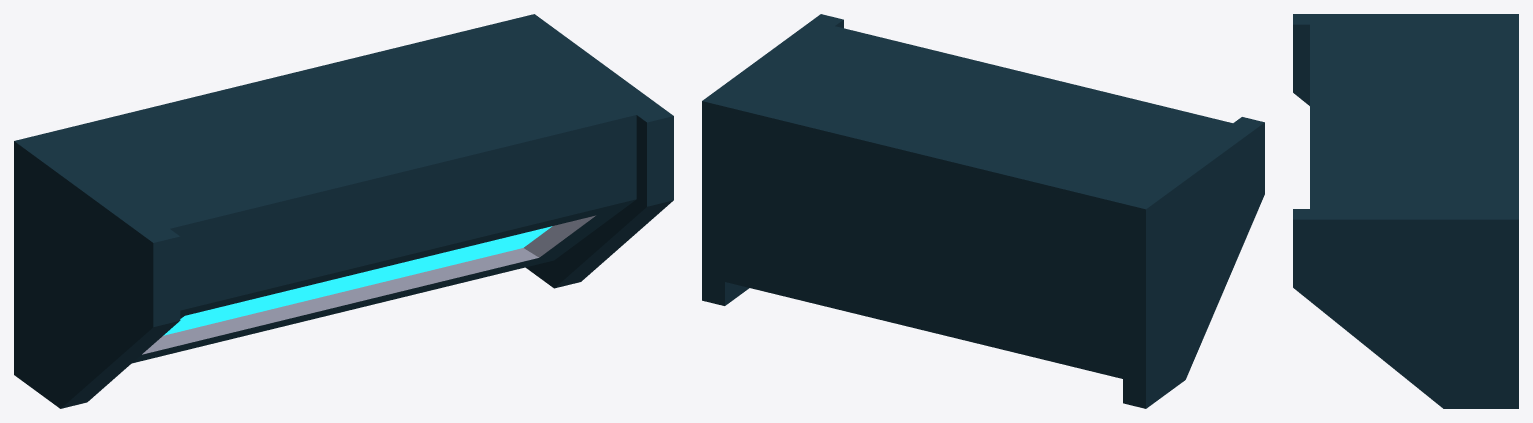
File: Light_Wall_02_Blue.glb
3 renders of one model, left to right at view 1: azimuth 30°, elevation 25°; view 2: azimuth 150°, elevation 25°; view 3: azimuth 270°, elevation 25°, orthographic. The views are drawn at different scales.
Visible parts, largest first — view 1: Light_Wall_02_Blue.001; view 2: Light_Wall_02_Blue.001; view 3: Light_Wall_02_Blue.001.
Part boxes in pixels (bbox=[...]): Light_Wall_02_Blue.001: bbox=[14, 14, 673, 408]; Light_Wall_02_Blue.001: bbox=[702, 14, 1264, 408]; Light_Wall_02_Blue.001: bbox=[1293, 14, 1518, 408].
Size of the model in its own units: 0.3958 by 0.17 by 0.1836.
